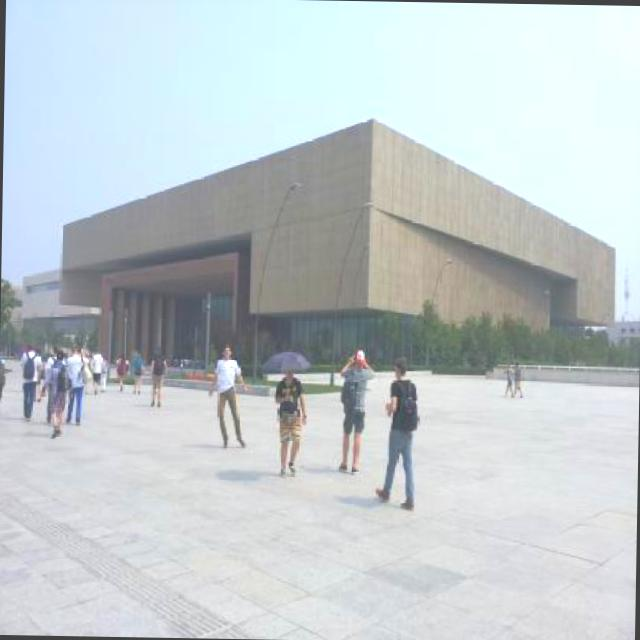Person: (16, 341, 106, 438), (382, 352, 426, 506), (335, 352, 374, 474), (207, 348, 252, 449), (272, 370, 306, 478), (148, 348, 168, 410), (132, 352, 146, 394), (511, 362, 524, 397), (115, 351, 126, 390), (503, 362, 515, 396), (0, 358, 5, 400)
